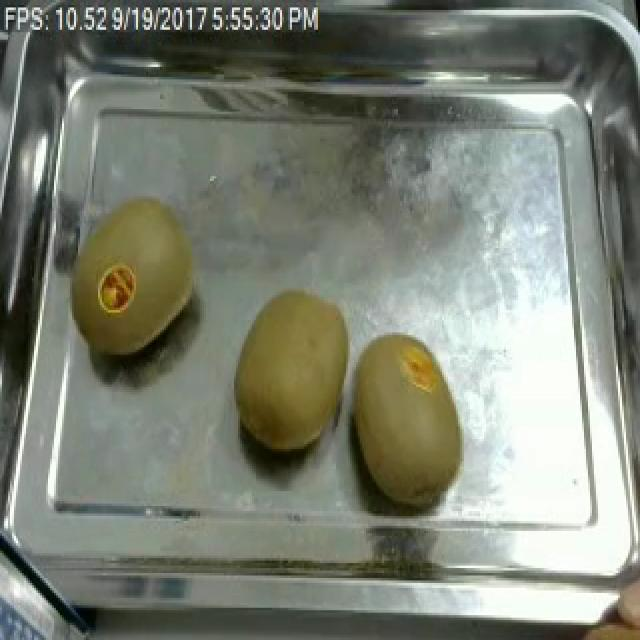Fruit: (62, 181, 206, 372), (224, 280, 362, 464), (338, 325, 474, 511), (546, 610, 640, 640)
